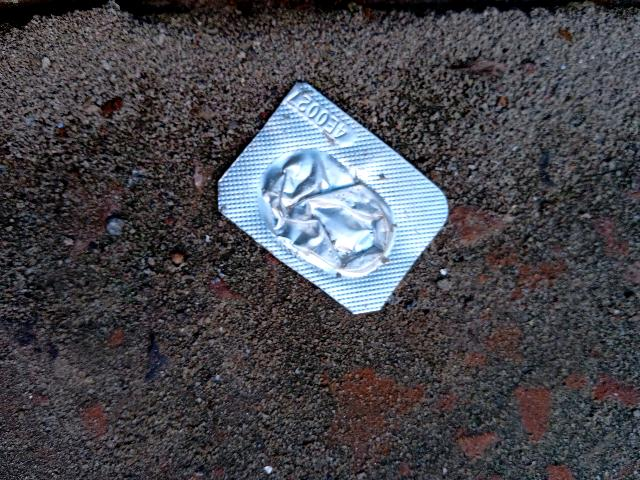medicine: (200, 73, 468, 335)
